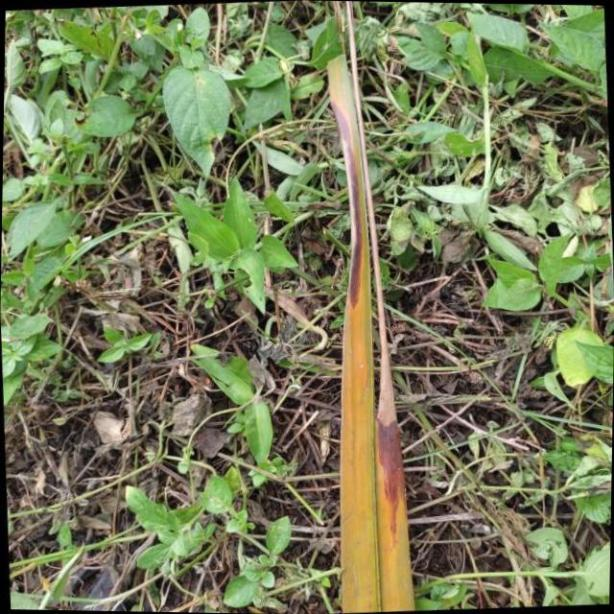Megnesium: (331, 9, 419, 614)
